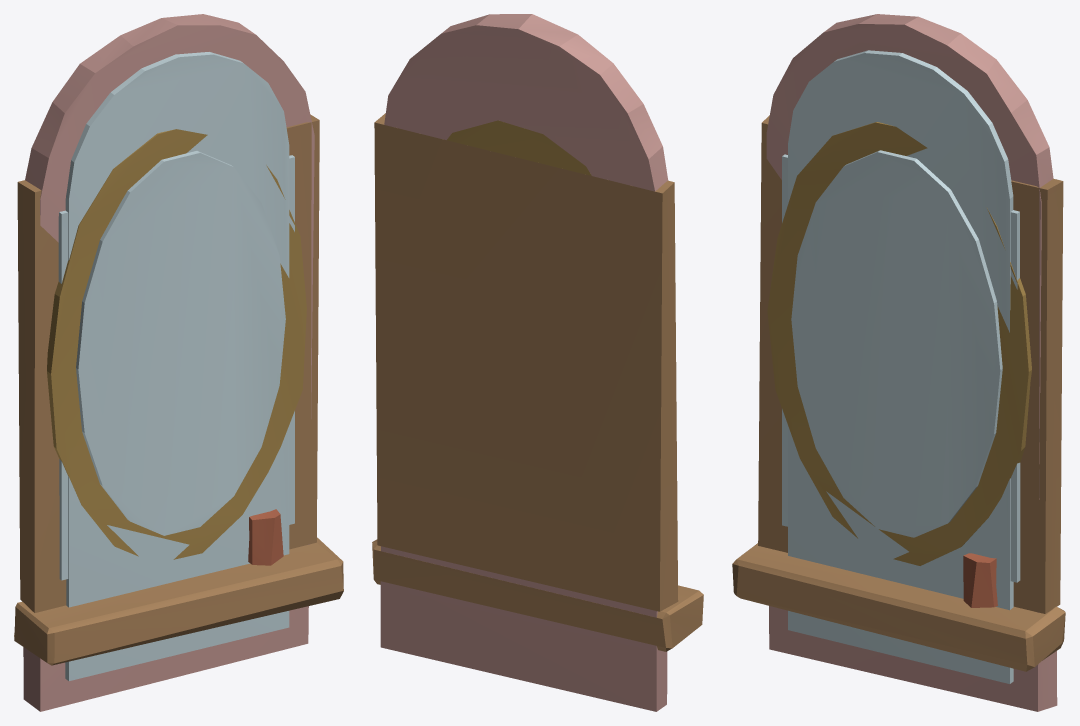
Rendered from mirror.glb.
The picture shows the model from 3 angles, left to right: view 1: azimuth 30°, elevation 25°; view 2: azimuth 150°, elevation 25°; view 3: azimuth 330°, elevation 25°; orthographic projection.
Parts seen in each view (by area): view 1: mirror.v0.mesh, mirror.v2.mesh, mirror.v1.mesh; view 2: mirror.v1.mesh, mirror.v2.mesh, mirror.v0.mesh; view 3: mirror.v0.mesh, mirror.v2.mesh, mirror.v1.mesh.
Boxes of the visible parts, box(x1,y1,x2,y2) form: mirror.v0.mesh: box(47, 129, 306, 559); mirror.v2.mesh: box(23, 14, 314, 711); mirror.v1.mesh: box(14, 114, 343, 665); mirror.v1.mesh: box(372, 113, 703, 651); mirror.v2.mesh: box(380, 14, 668, 711); mirror.v0.mesh: box(447, 120, 591, 175); mirror.v0.mesh: box(767, 122, 1031, 565); mirror.v2.mesh: box(766, 14, 1057, 711); mirror.v1.mesh: box(732, 115, 1065, 671).
Size of the model in its own units: 0.4638 by 0.9649 by 0.0992.
